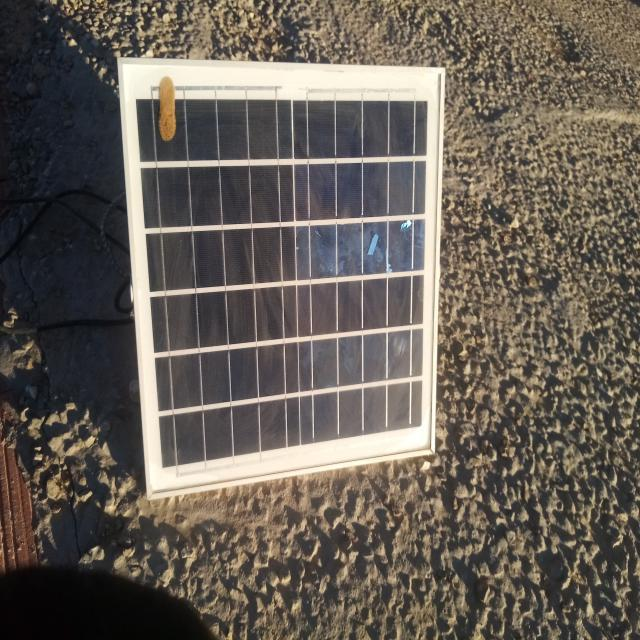faulty: (122, 59, 445, 498)
